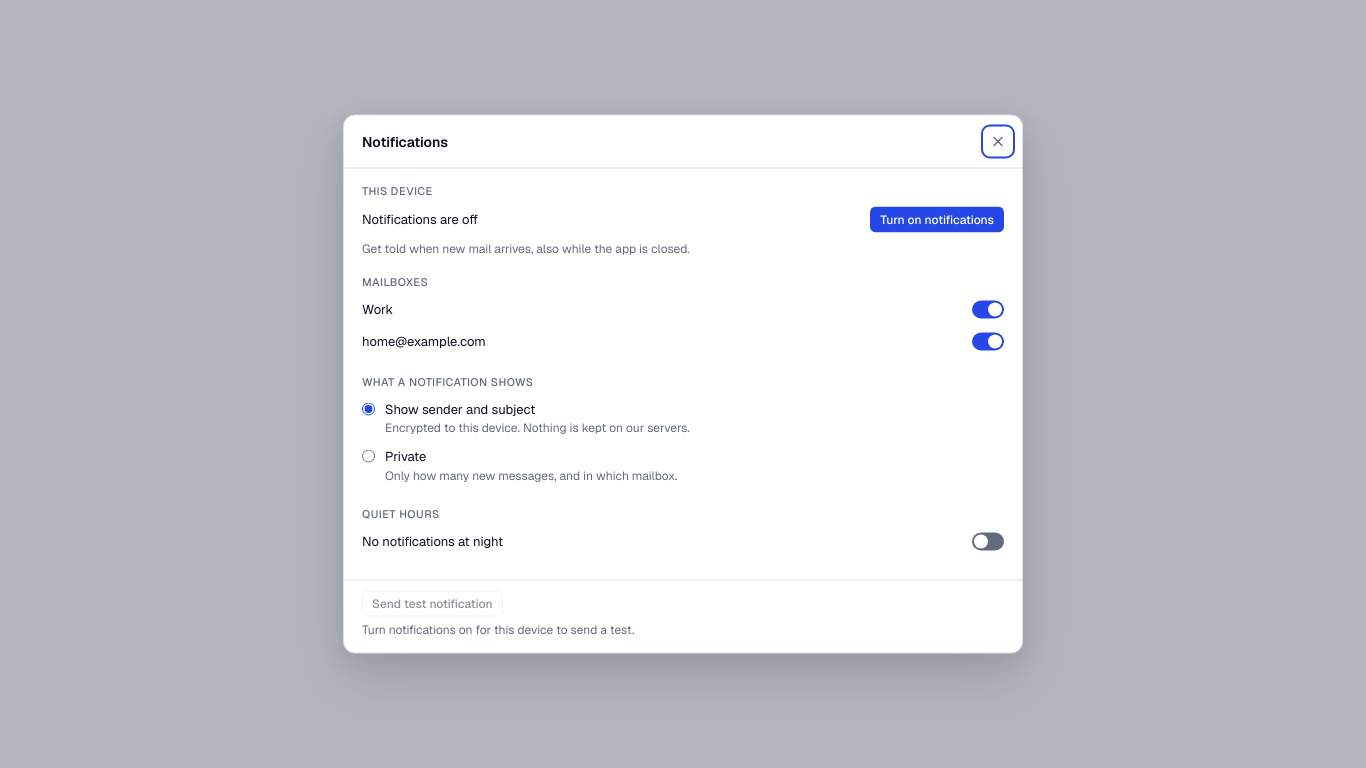
Notifications settings › opening it asks for nothing: permission is requested only by the Turn on button
Expected: the button "Send test notification" is disabled, [362,590,502,616]
Click the button "Turn on notifications": (937, 219) [870,206,1004,232]
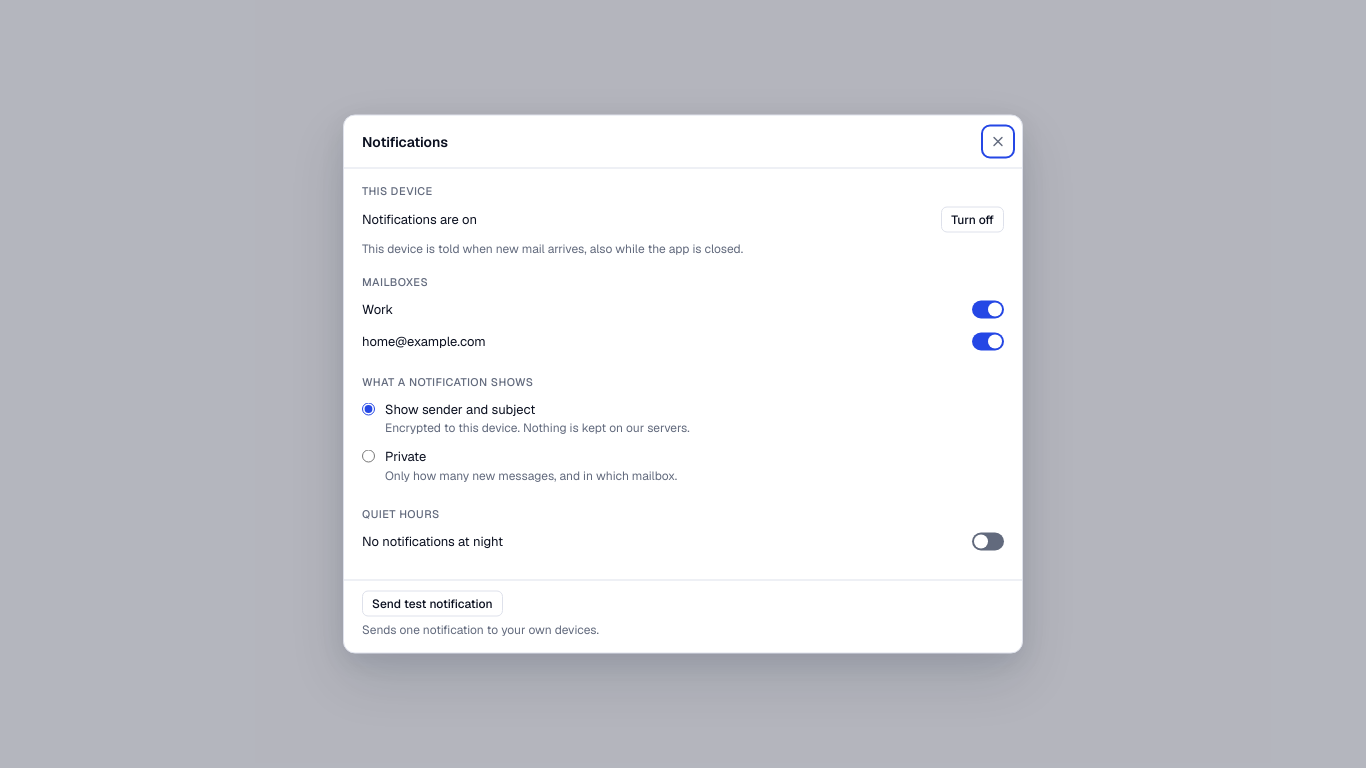
Expected: the button "Turn off" is shown, [941,206,1004,232]
Now the text "Notifications are on" is shown, box [362,209,477,229]
Now the button "Send test notification" is enabled, box [362,590,502,616]
